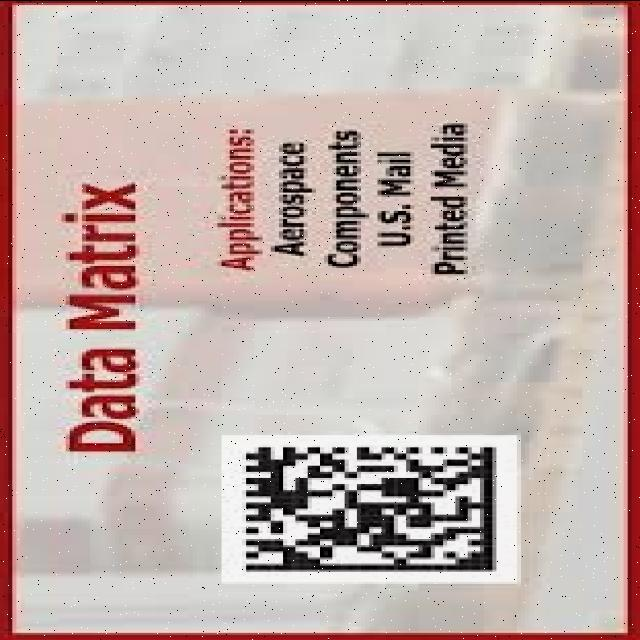datamatrix: (234, 440, 509, 577)
